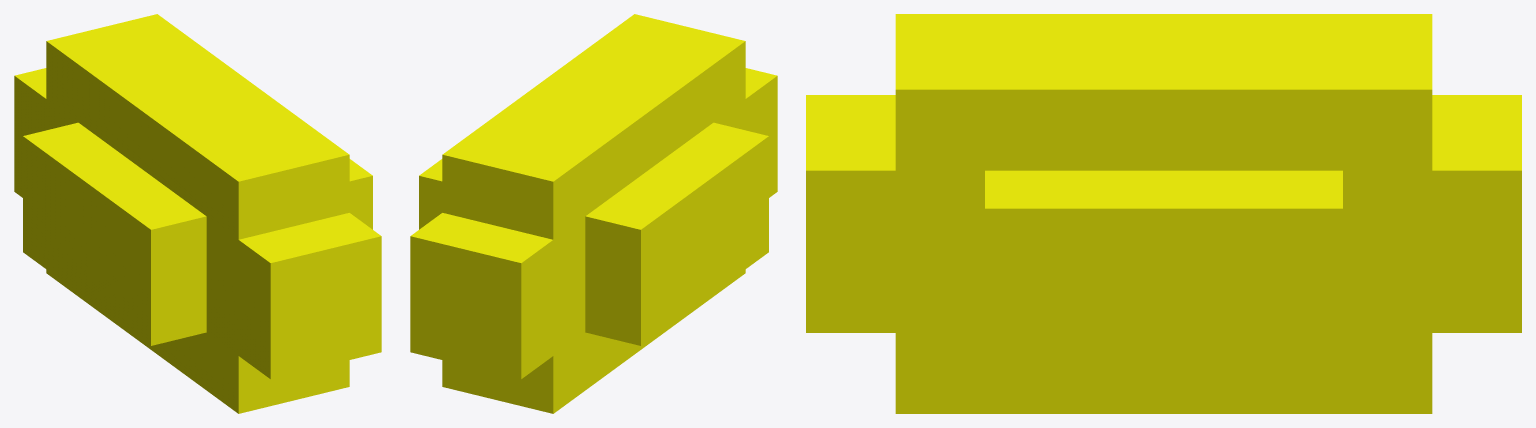
The model's file is Bullet Model.obj.
3 renders of one model, left to right at view 1: azimuth 30°, elevation 25°; view 2: azimuth 150°, elevation 25°; view 3: azimuth 270°, elevation 25°, orthographic. The views are drawn at different scales.
Parts seen in each view (by area): view 1: cube; view 2: cube; view 3: cube.
Boxes of the visible parts, x1,y1,x2,y2 form: cube: [14, 14, 381, 413]; cube: [410, 14, 777, 413]; cube: [806, 14, 1521, 413].
Bounding box in the file's own units: 4 × 4 × 8.
